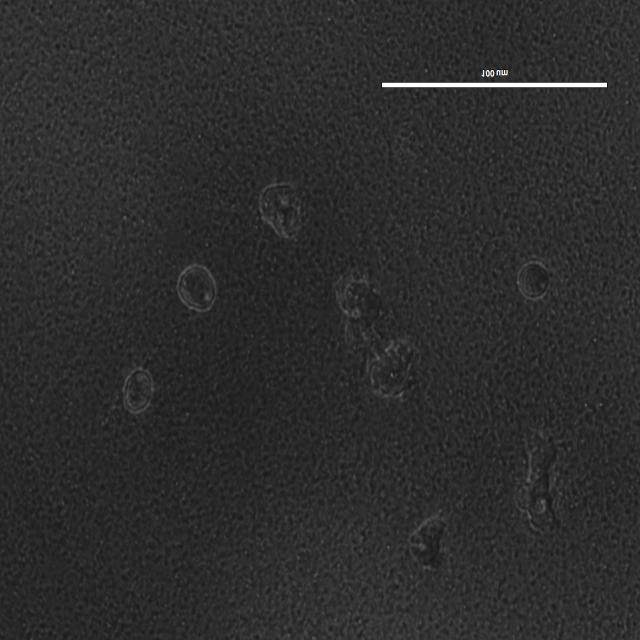Amoeba: (334, 271, 392, 355), (516, 432, 558, 536), (364, 339, 420, 399), (259, 184, 304, 238), (409, 512, 447, 569), (177, 268, 217, 312), (122, 366, 154, 416), (515, 259, 552, 302)
